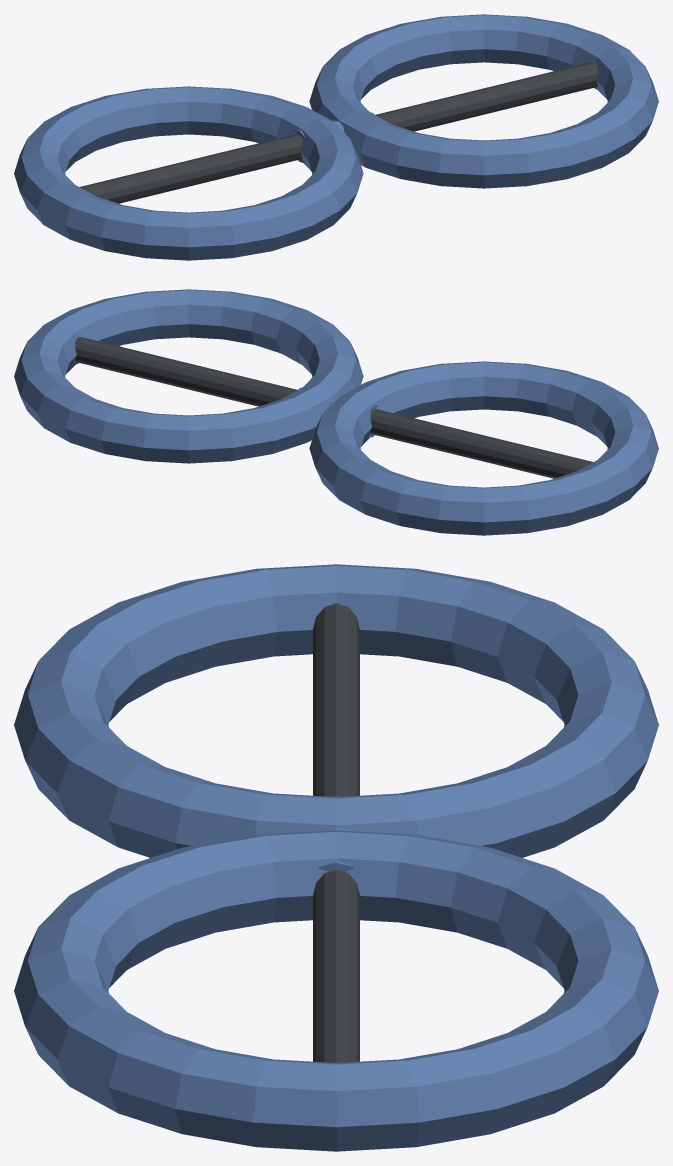
3 views of the same model, one above another, from view 1: azimuth 30°, elevation 25°; view 2: azimuth 150°, elevation 25°; view 3: azimuth 270°, elevation 25° (orthographic). The views are drawn at different scales.
Visible parts, largest first — view 1: geometry_0; view 2: geometry_0; view 3: geometry_0.
Boxes of the visible parts, left/top/right/bottom form: geometry_0: left=14, top=14, right=658, bottom=260; geometry_0: left=14, top=289, right=658, bottom=535; geometry_0: left=14, top=564, right=658, bottom=1151.
Size of the model in its own units: 0.162 by 0.012 by 0.082.
